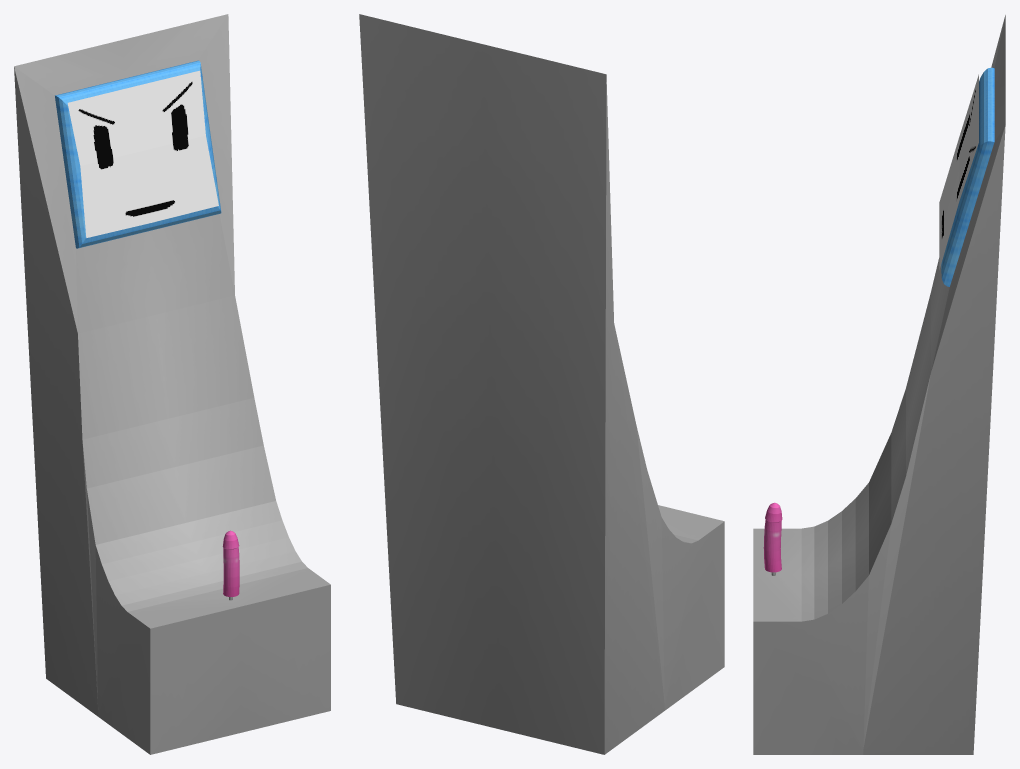
The model's file is Console.fbx.
3 renders of one model, left to right at view 1: azimuth 30°, elevation 25°; view 2: azimuth 150°, elevation 25°; view 3: azimuth 270°, elevation 25°, orthographic. The views are drawn at different scales.
Parts seen in each view (by area): view 1: Cube.003, Face001, Cylinder; view 2: Cube.003; view 3: Cube.003, Face001, Cylinder.
Boxes of the visible parts, x1,y1,x2,y2 form: Cube.003: (14, 14, 330, 754); Face001: (67, 70, 218, 237); Cylinder: (222, 530, 239, 600); Cube.003: (359, 14, 724, 754); Cube.003: (753, 15, 1005, 754); Face001: (939, 74, 978, 269); Cylinder: (763, 502, 782, 575).
Bounding box in the file's own units: 95.02 × 266 × 98.48.
